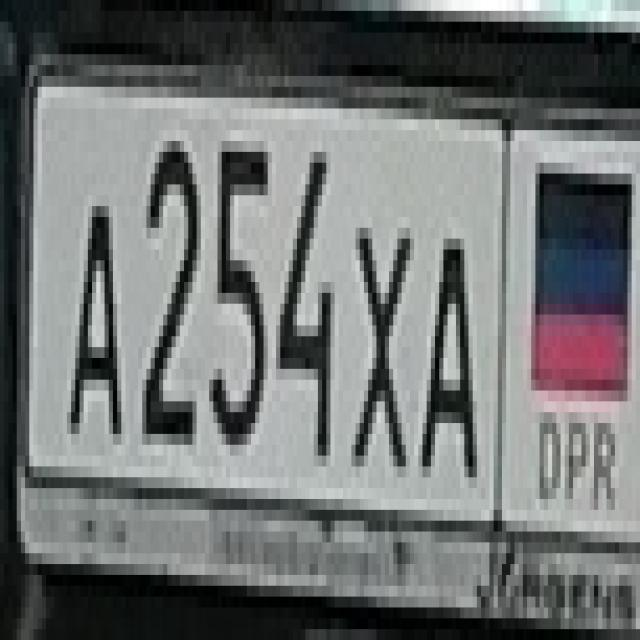2: (125, 108, 205, 434)
4: (259, 130, 343, 456)
5: (196, 120, 272, 444)
A: (50, 173, 121, 434), (406, 217, 477, 477)
X: (339, 195, 410, 456)
